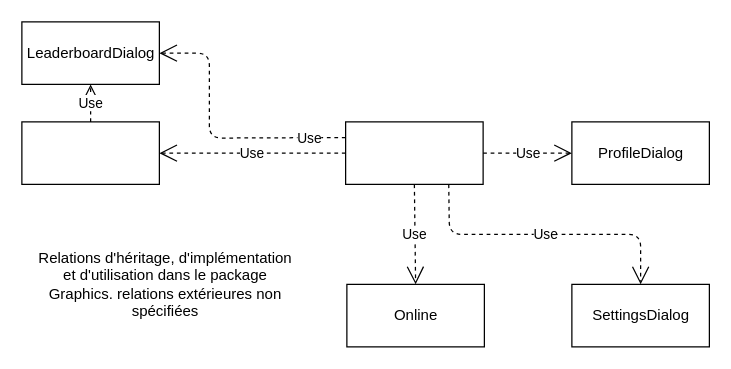
The diagram is 731 pixels wide and 369 high, and some of its shapes have lost their labels. Here are the shapes that lost their labels. From the top down, the box of each, then its label:
(21, 121, 159, 184): Leaderboard
(344, 121, 483, 184): Launcher
